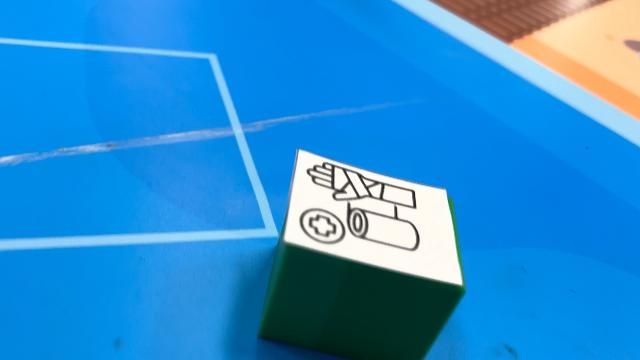bandage: (258, 147, 467, 358)
